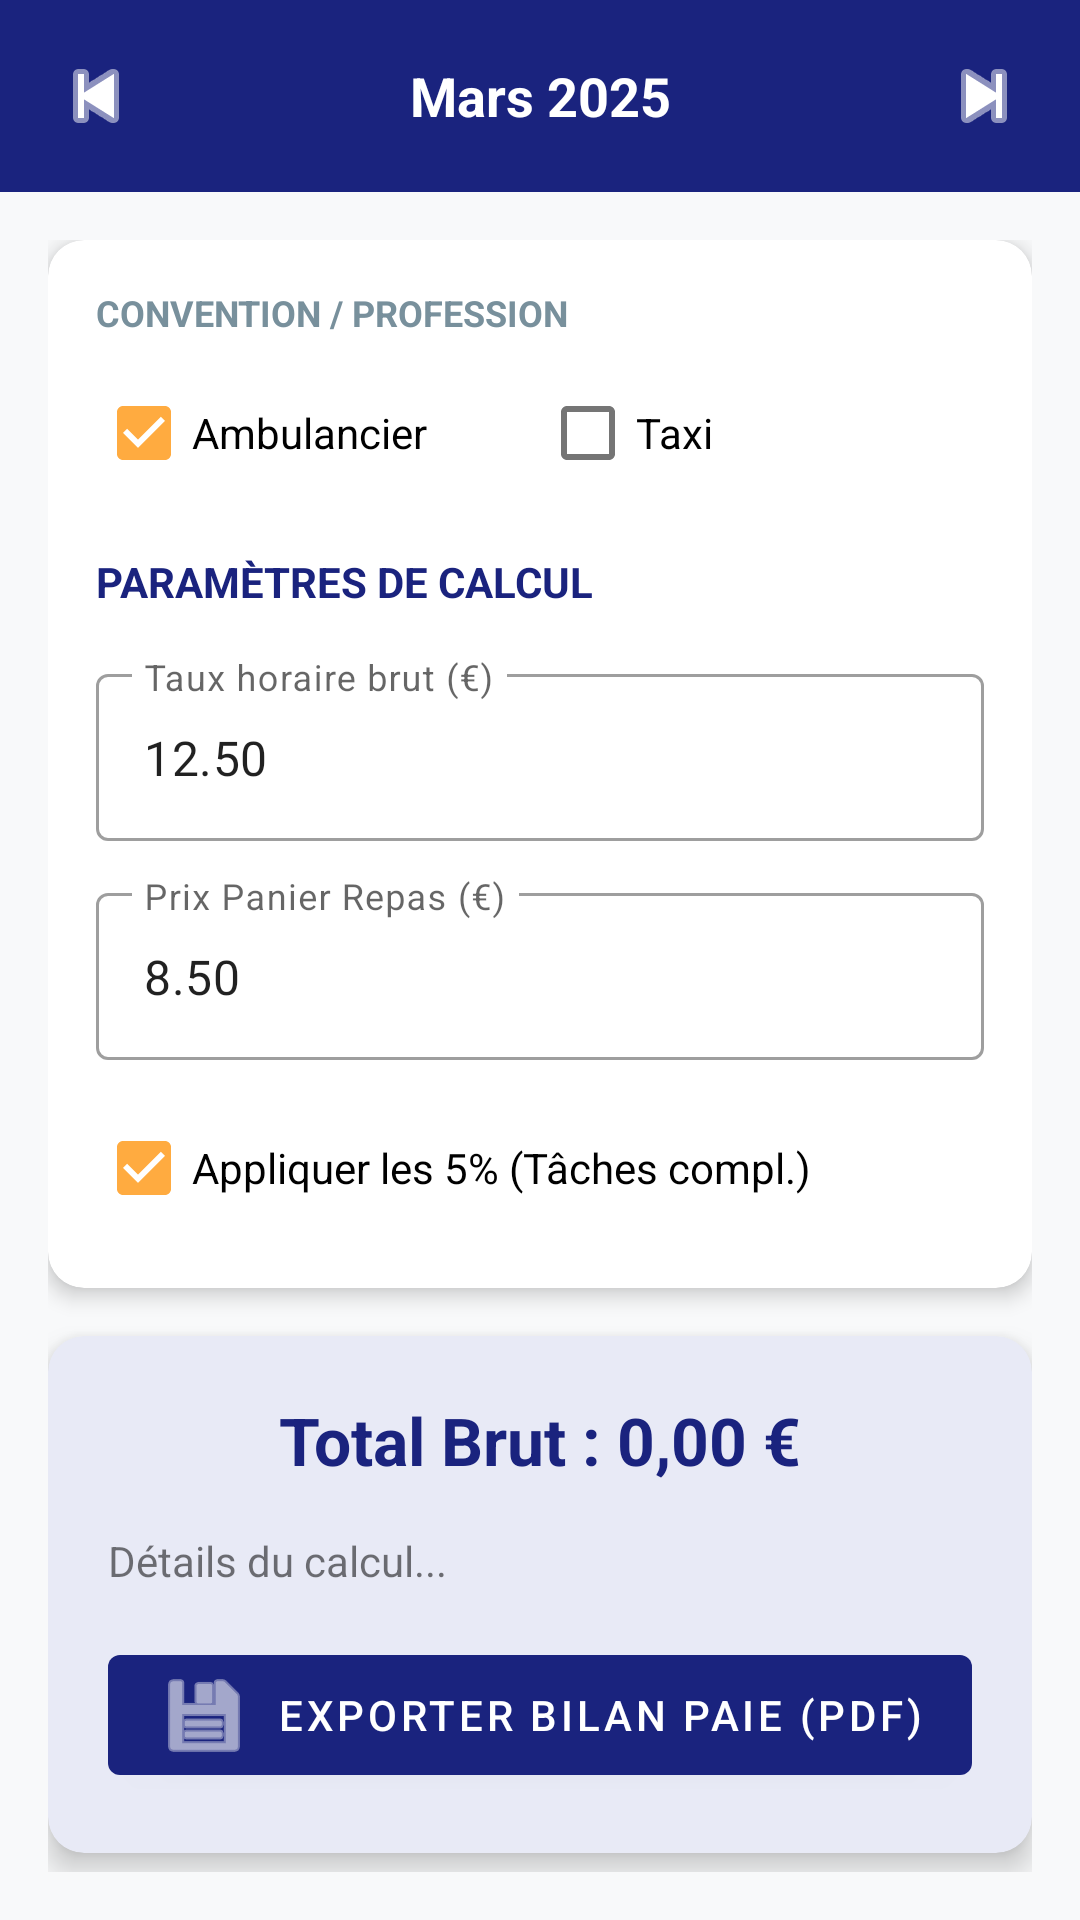

Where to tap for icons on this 1080×1920 app screen, as [x,y]:
Mois précédent: [96,96]
Mois suivant: [984,96]
